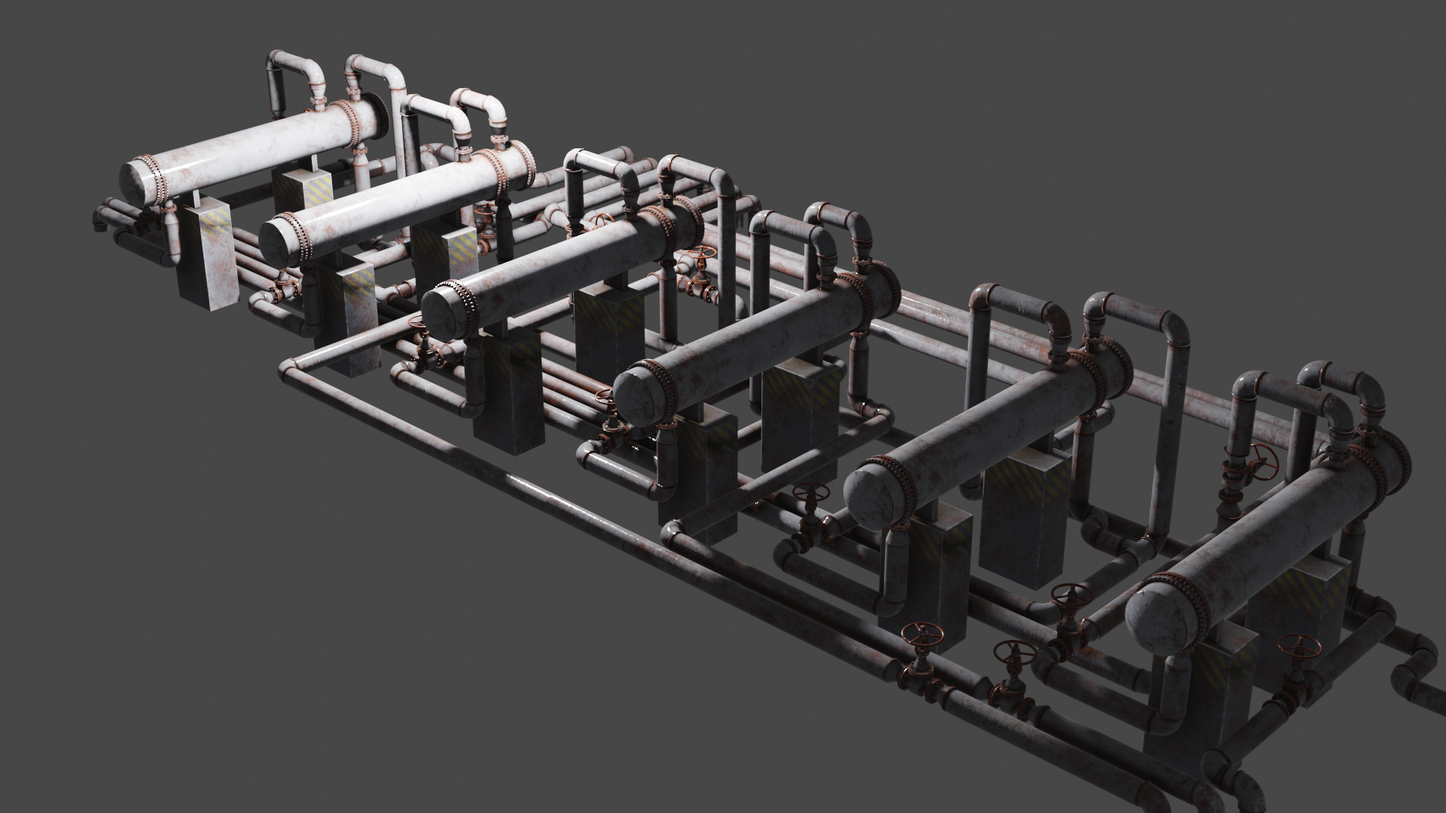HE_1: (1119, 420, 1418, 656)
HE_2: (840, 332, 1133, 534)
HE_3: (613, 255, 904, 433)
HE_4: (418, 191, 708, 345)
HE_5: (252, 137, 535, 276)
HE_6: (119, 89, 390, 213)
